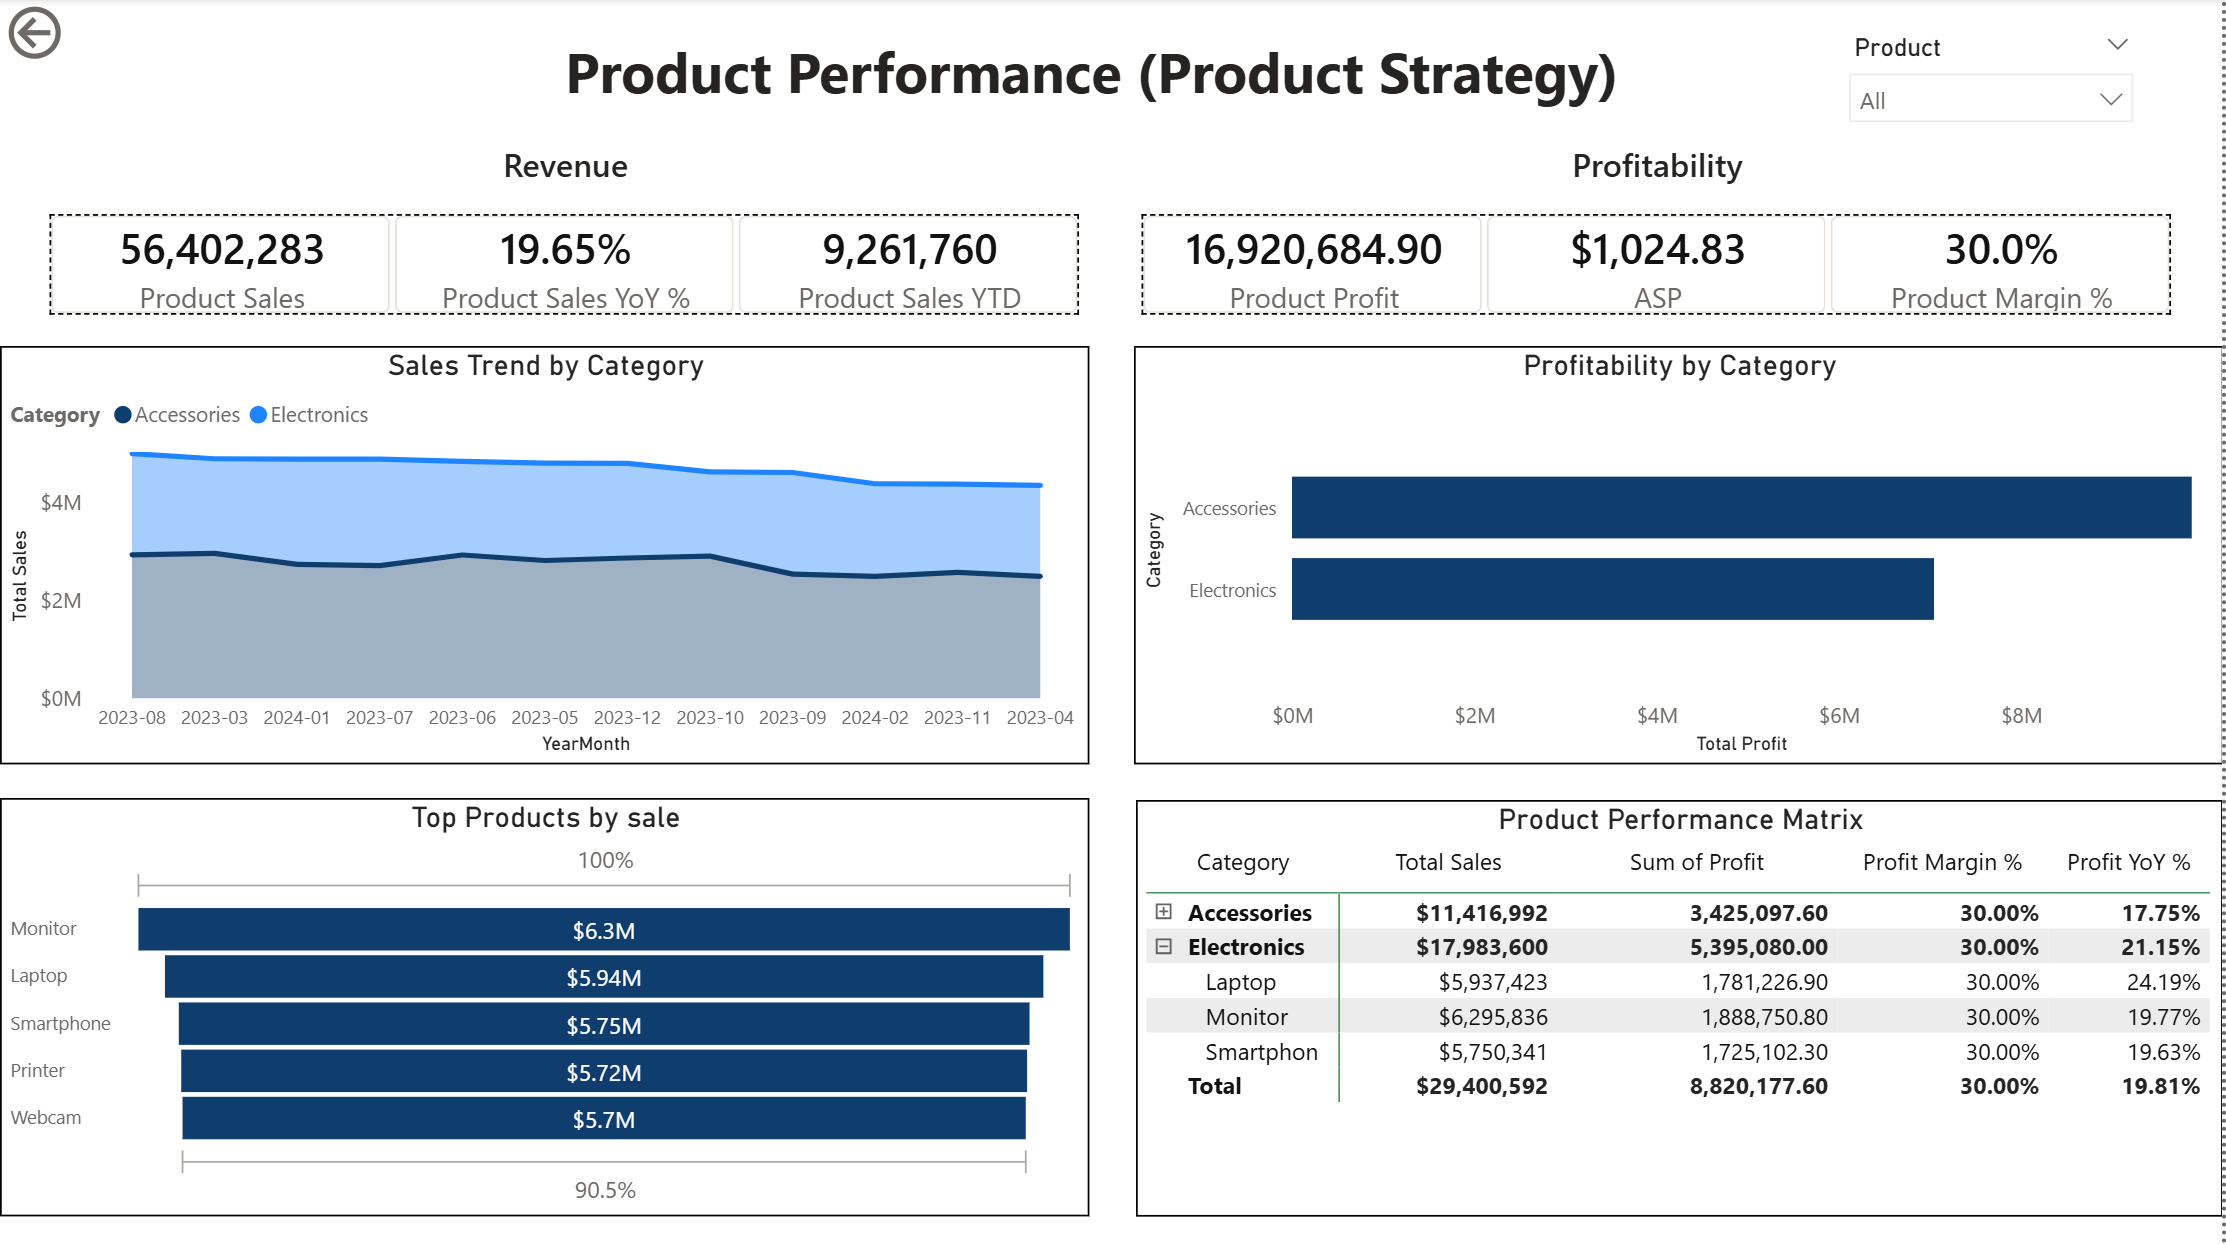

This screenshot's page, from the dashboard's own definition file:
{"tool":"powerbi","page":{"name":"Page 3","canvas":[1280,720],"ordinal":2},"visuals":[{"type":"textbox","box":[230.8,15.3,796.8,54.8],"z":0},{"type":"cardVisual","title":"Revenue","fields":{"Data":["All_measures.Product Sales","All_measures.Product Sales YoY %","All_measures.Product Sales YTD"]},"box":[12,82.7,628.7,117.3],"z":1000},{"type":"cardVisual","title":"Profitability","fields":{"Data":["All_measures.Product Profit","All_measures.ASP","All_measures.Product Margin %"]},"box":[640,82.9,628.5,117.3],"z":2000},{"type":"stackedAreaChart","title":"Sales Trend by Category","fields":{"Category":["Dim_Date.YearMonth"],"Y":["All_measures.Total Sales"],"Series":["FactSalesData.Category"]},"box":[0,200.2,627.3,241],"z":3000},{"type":"barChart","title":"Profitability by Category","fields":{"Category":["FactSalesData.Category"],"Y":["All_measures.Total Profit"]},"box":[652.7,200.2,627.3,241],"z":4000},{"type":"funnel","title":"Top Products by sale","fields":{"Category":["FactSalesData.Product"],"Y":["All_measures.Total Sales"]},"box":[0,460.2,627.3,241],"z":5000},{"type":"pivotTable","title":"Product Performance Matrix","fields":{"Rows":["FactSalesData.Category","FactSalesData.Product"],"Values":["All_measures.Total Sales","Sum(FactSalesData.Profit)","All_measures.Profit Margin %","All_measures.Profit YoY %"]},"box":[653.8,461.5,626.2,240],"z":6000},{"type":"slicer","fields":{"Values":["FactSalesData.Product"]},"box":[1055.6,15.3,183.6,67.6],"z":7000},{"type":"actionButton","box":[0,0,100,40],"z":8000}]}

Visuals, with their boxes in screenshot pixels (x1, y1, x2, y2), scaled from the page's 1280x720 canvas onto the 2226x1244 screenshot:
textbox: 401:26:1787:121
"Revenue" cardVisual: 21:143:1114:346
"Profitability" cardVisual: 1113:143:2206:346
"Sales Trend by Category" stackedAreaChart: 0:346:1091:762
"Profitability by Category" barChart: 1135:346:2225:762
"Top Products by sale" funnel: 0:795:1091:1212
"Product Performance Matrix" pivotTable: 1137:797:2225:1212
slicer - FactSalesData.Product: 1836:26:2155:143
actionButton: 0:0:174:69
